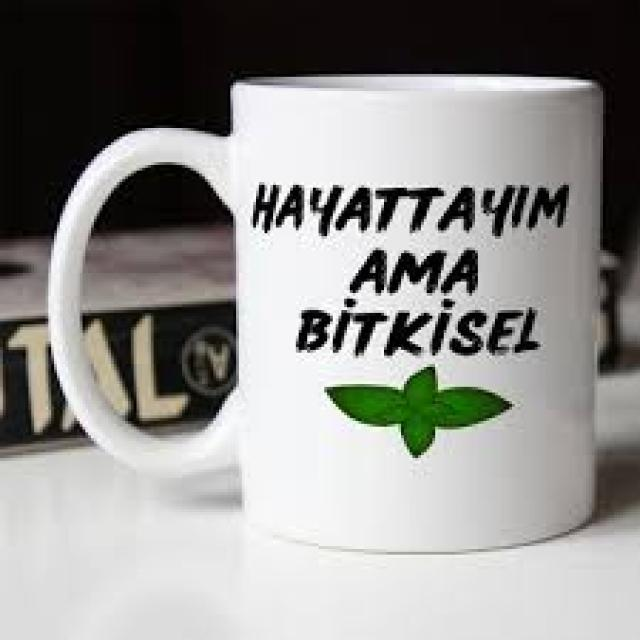taza: (48, 73, 604, 554)
